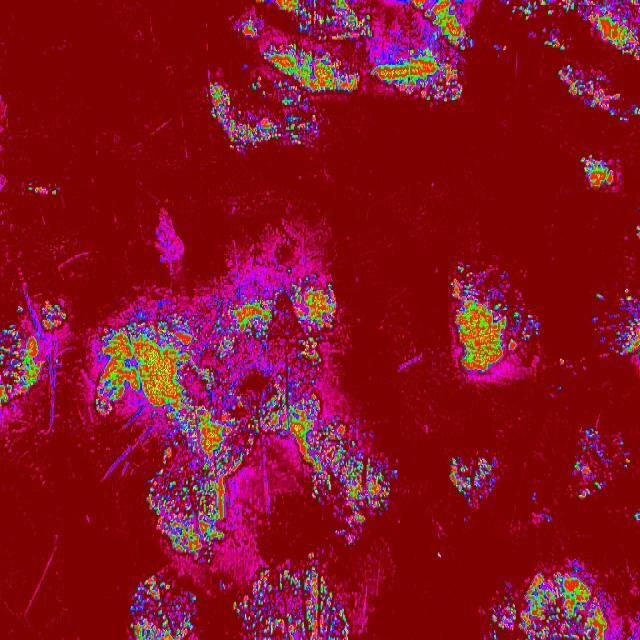fire: (94, 316, 400, 563), (238, 0, 476, 110), (488, 561, 616, 640), (449, 262, 538, 374), (234, 564, 352, 640), (214, 258, 340, 316), (1, 300, 67, 410), (570, 422, 636, 502), (558, 60, 640, 124), (128, 570, 198, 640), (591, 286, 640, 366), (576, 0, 640, 60), (235, 109, 322, 152), (448, 450, 499, 504), (206, 76, 236, 146), (504, 0, 577, 20), (578, 155, 616, 190), (536, 27, 570, 52), (26, 182, 58, 196), (491, 40, 512, 51), (544, 512, 554, 529), (434, 548, 445, 562), (530, 492, 538, 506), (635, 220, 640, 240), (220, 580, 227, 592), (558, 358, 566, 366), (635, 512, 640, 522), (557, 385, 564, 391)
